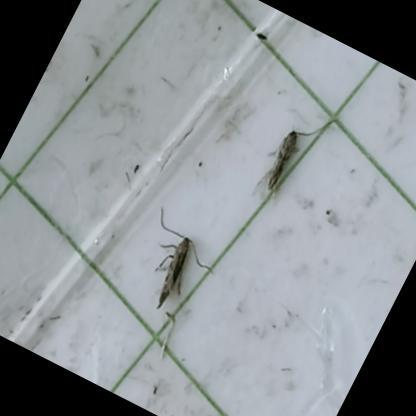prays_oleae: (232, 108, 325, 216), (138, 207, 220, 322)
